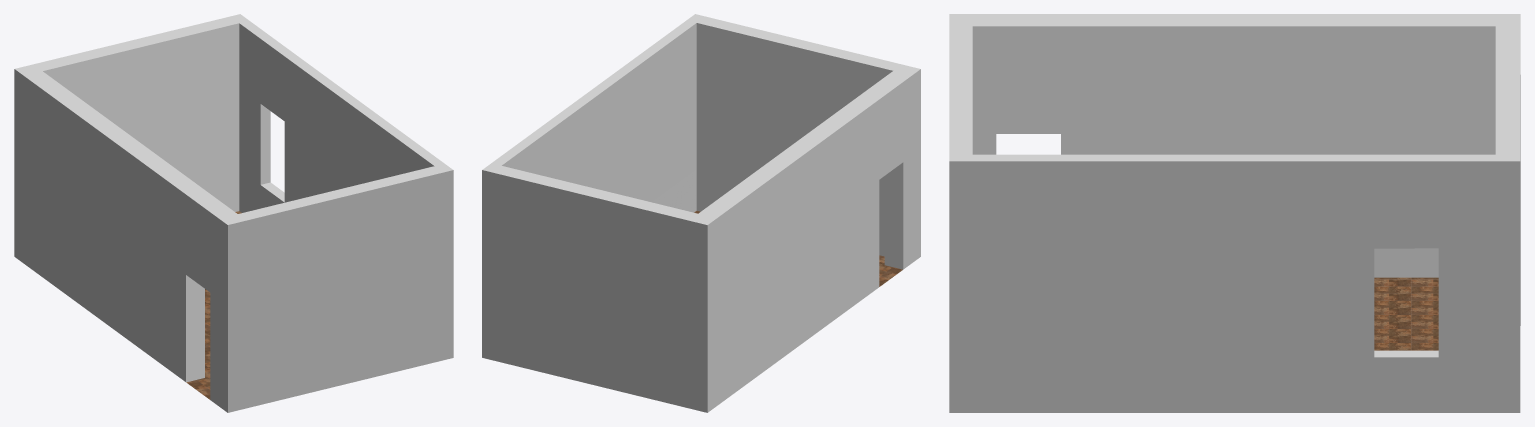
File: StartRoom.fbx
The picture shows the model from 3 angles, left to right: view 1: azimuth 30°, elevation 25°; view 2: azimuth 150°, elevation 25°; view 3: azimuth 270°, elevation 25°; orthographic projection. The views are drawn at different scales.
Parts seen in each view (by area): view 1: Classroom 1.011; view 2: Classroom 1.011; view 3: Classroom 1.011.
Boxes of the visible parts, box(x1,y1,x2,y2) form: Classroom 1.011: box(14, 14, 453, 412); Classroom 1.011: box(482, 14, 920, 412); Classroom 1.011: box(949, 14, 1520, 412).
Bounding box in the file's own units: 856 × 681 × 1403.
